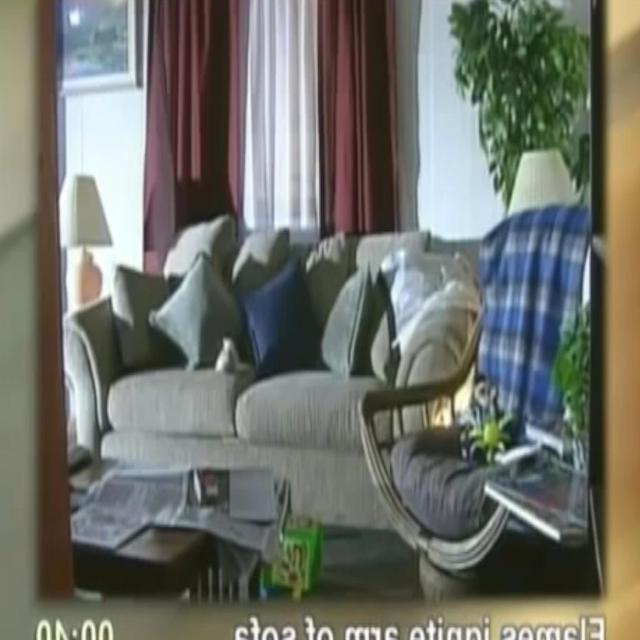smoke: (428, 362, 478, 434)
